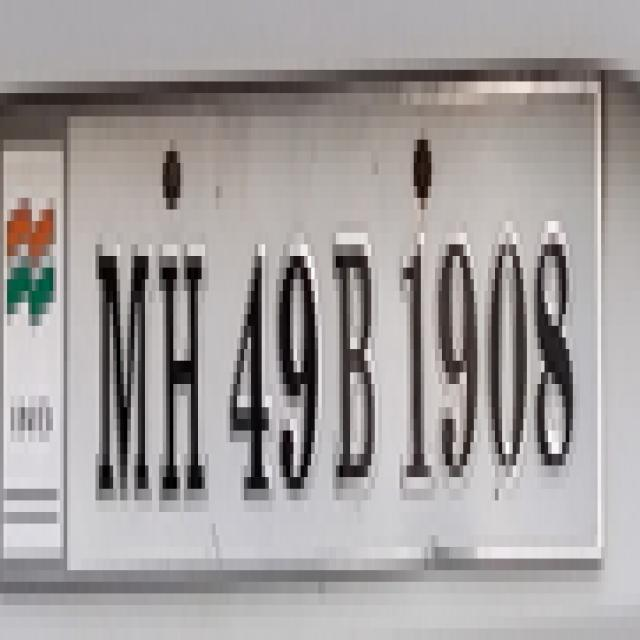0: (483, 211, 531, 494)
1: (391, 220, 437, 497)
4: (218, 234, 276, 526)
8: (533, 215, 579, 474)
9: (436, 239, 486, 492), (272, 244, 322, 488)
B: (331, 206, 383, 530)
H: (157, 235, 211, 517)
M: (88, 229, 154, 518)
